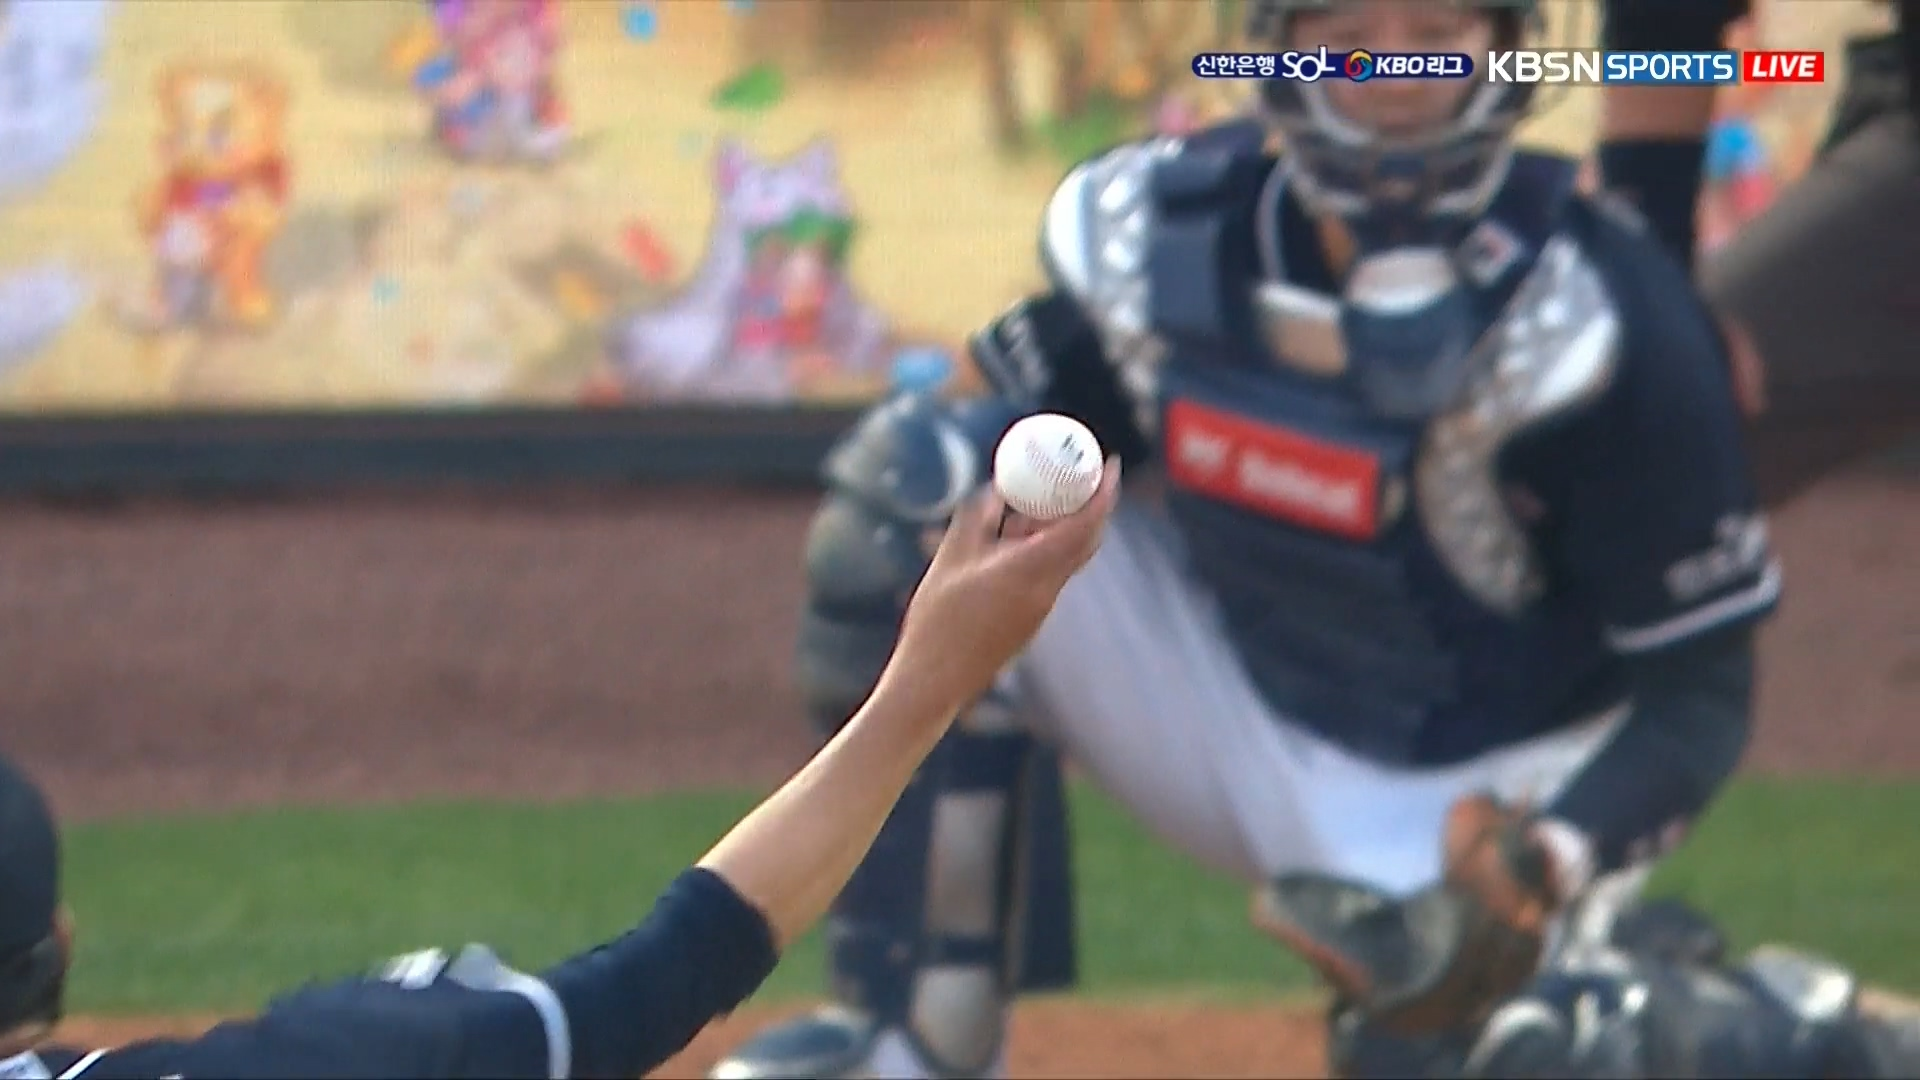zoomin_hand: (629, 375, 1175, 1022)
